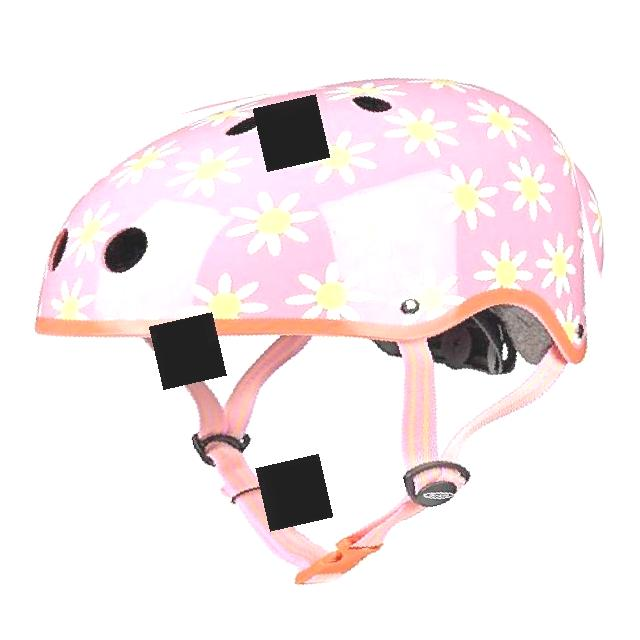helmet: (17, 58, 629, 604)
